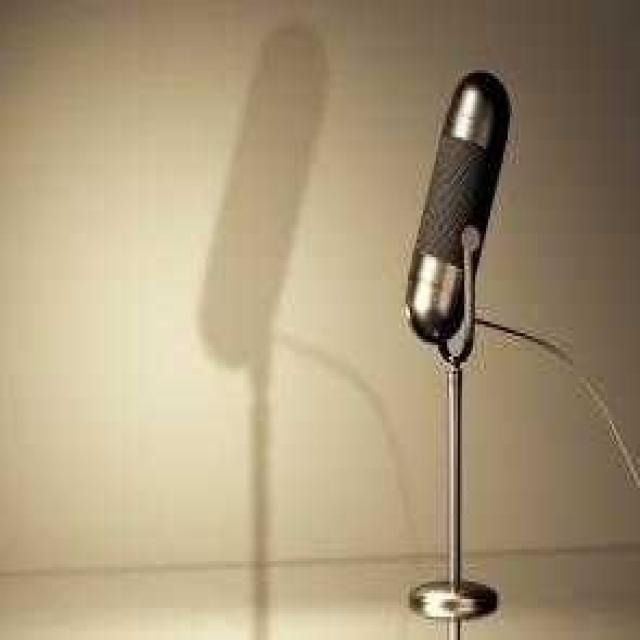microphone: (397, 53, 529, 430)
